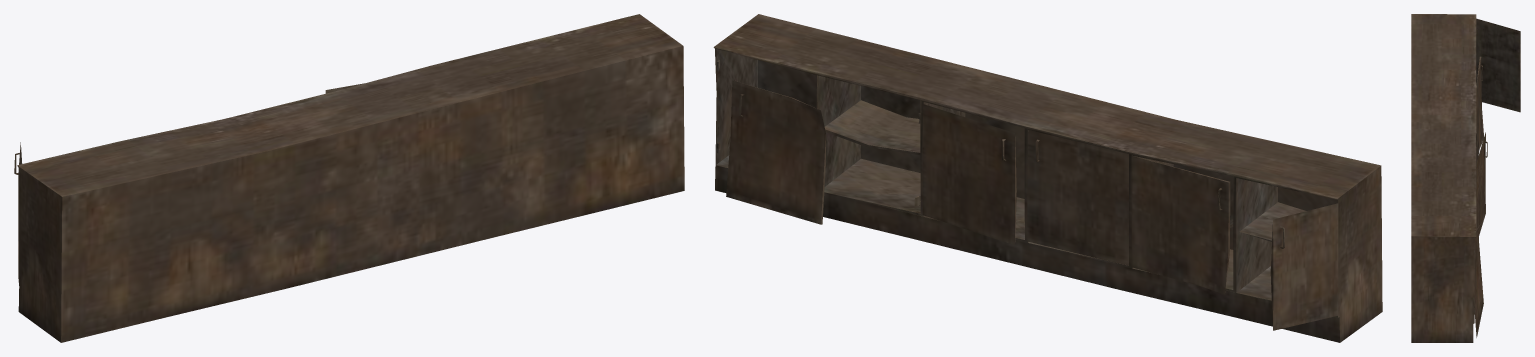
File: galley-cabinets-run.lod1.glb
3 views of the same model, side by side, from view 1: azimuth 30°, elevation 25°; view 2: azimuth 150°, elevation 25°; view 3: azimuth 270°, elevation 25° (orthographic). The views are drawn at different scales.
Parts seen in each view (by area): view 1: galley-cabinets-run; view 2: galley-cabinets-run; view 3: galley-cabinets-run.
Part boxes in pixels (<box>): galley-cabinets-run: <box>14,14,684,342</box>; galley-cabinets-run: <box>713,14,1382,342</box>; galley-cabinets-run: <box>1411,14,1520,342</box>.
Bounding box in the file's own units: 5.04 × 1.14 × 1.05.
1 material, 1 textured.
